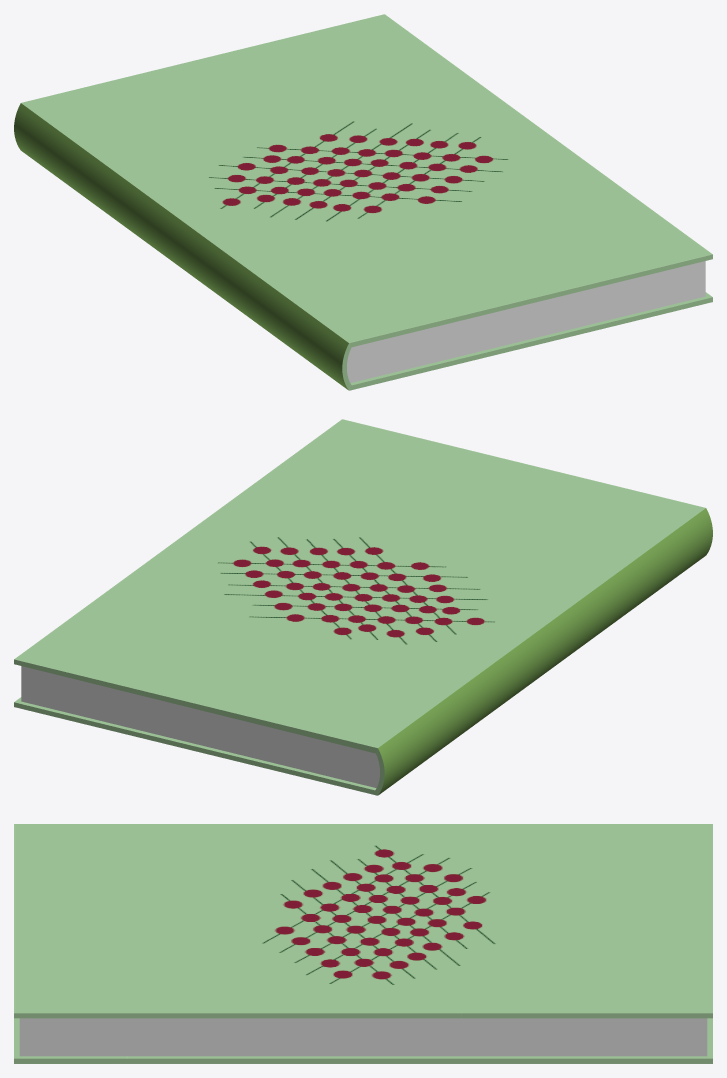
The model's file is garden book final.fbx.
The picture shows the model from 3 angles, top to bottom: view 1: azimuth 30°, elevation 25°; view 2: azimuth 150°, elevation 25°; view 3: azimuth 270°, elevation 25°; orthographic projection. The views are drawn at different scales.
Visible parts, largest first — view 1: book_shape:polySurface1; view 2: book_shape:polySurface1; view 3: book_shape:polySurface1.
Boxes of the visible parts, <box> form: book_shape:polySurface1: <box>14,14,712,390</box>; book_shape:polySurface1: <box>14,419,712,795</box>; book_shape:polySurface1: <box>14,824,712,1063</box>.
Bounding box in the file's own units: 16.3 × 2 × 25.
